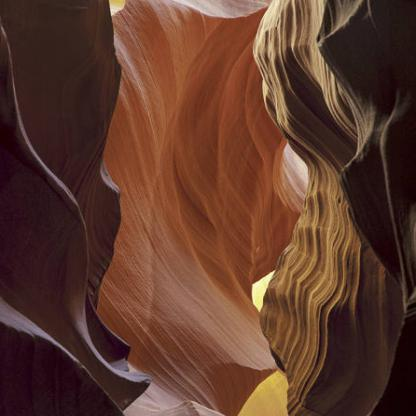Sedimentary_Sandstone: (262, 7, 415, 415)
